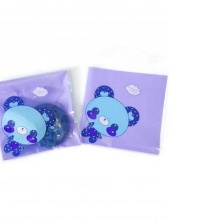snack: (71, 60, 172, 160), (0, 62, 86, 165)
